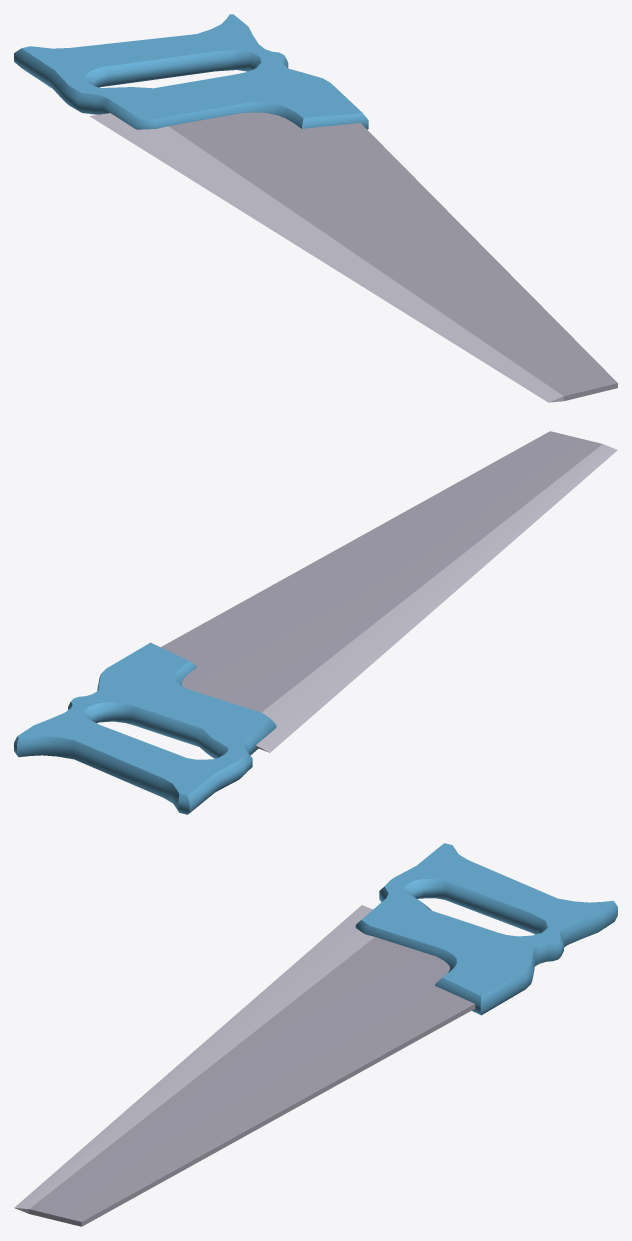
File: Saw_Tool_M.fbx
The picture shows the model from 3 angles, top to bottom: view 1: azimuth 30°, elevation 25°; view 2: azimuth 150°, elevation 25°; view 3: azimuth 330°, elevation 25°; orthographic projection. The views are drawn at different scales.
Parts seen in each view (by area): view 1: Saw_Tool_M; view 2: Saw_Tool_M; view 3: Saw_Tool_M.
Part boxes in pixels (box(x1,y1,x2,y2)): Saw_Tool_M: box(14, 14, 617, 402); Saw_Tool_M: box(14, 431, 617, 814); Saw_Tool_M: box(14, 843, 617, 1226).
Size of the model in its own units: 114 by 10.45 by 464.
1 material, 1 textured.
